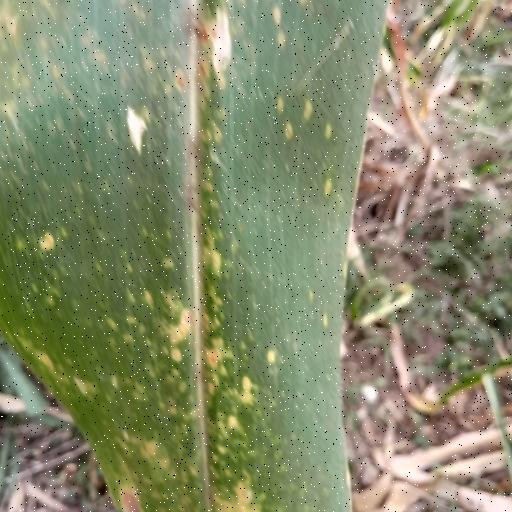Corn_Rust: (1, 2, 409, 512)
